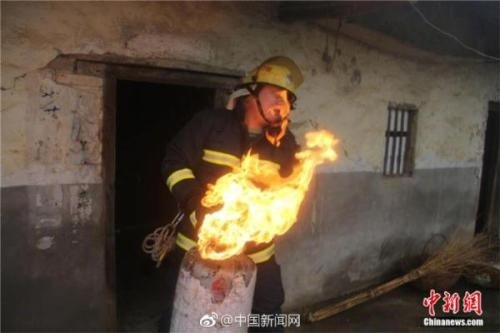fire: (191, 130, 341, 258), (263, 86, 293, 144)
